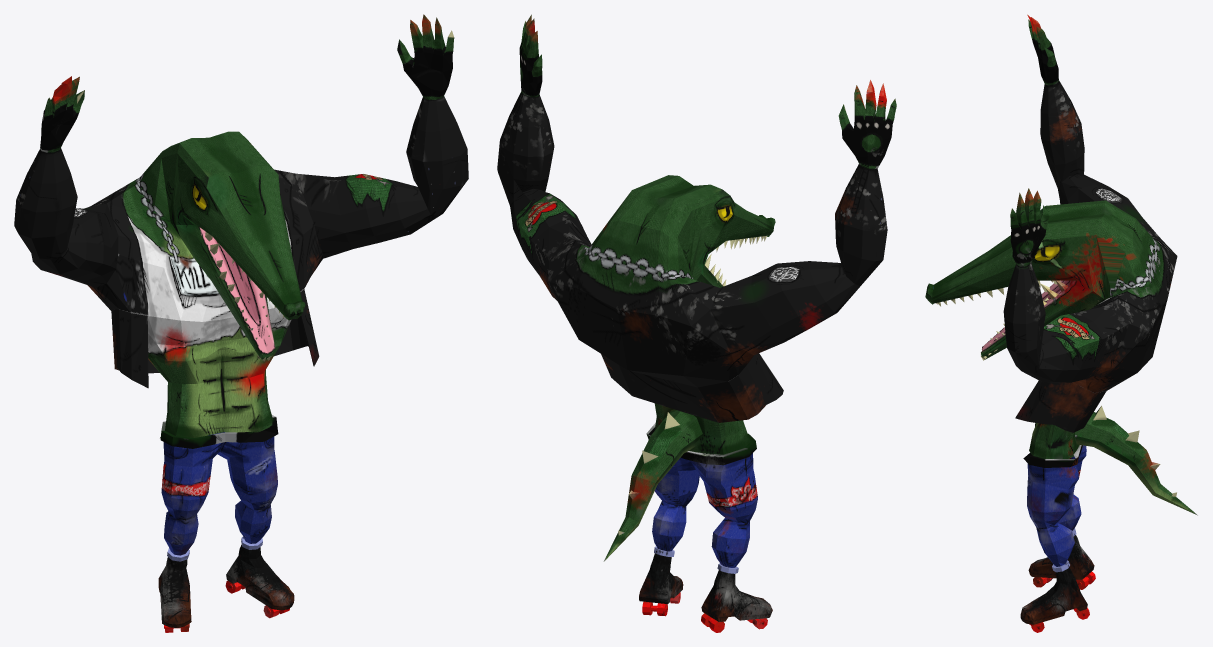
File: cocodrilaBonesSelect_000034.obj
The picture shows the model from 3 angles, left to right: view 1: azimuth 30°, elevation 25°; view 2: azimuth 150°, elevation 25°; view 3: azimuth 270°, elevation 25°; orthographic projection. The views are drawn at different scales.
Visible parts, largest first — view 1: Crocodile.002_Cylinder.002; view 2: Crocodile.002_Cylinder.002; view 3: Crocodile.002_Cylinder.002.
Boxes of the visible parts, bbox=[...] form: Crocodile.002_Cylinder.002: bbox=[14, 14, 468, 632]; Crocodile.002_Cylinder.002: bbox=[497, 14, 896, 632]; Crocodile.002_Cylinder.002: bbox=[925, 14, 1197, 632].
Size of the model in its own units: 6.32 by 8.43 by 4.
